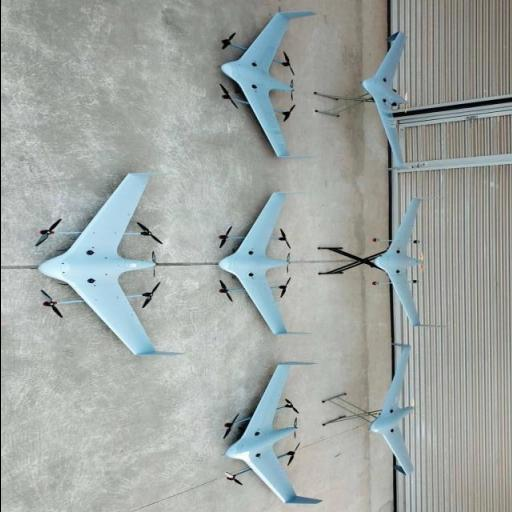uav: (33, 156, 183, 370)
